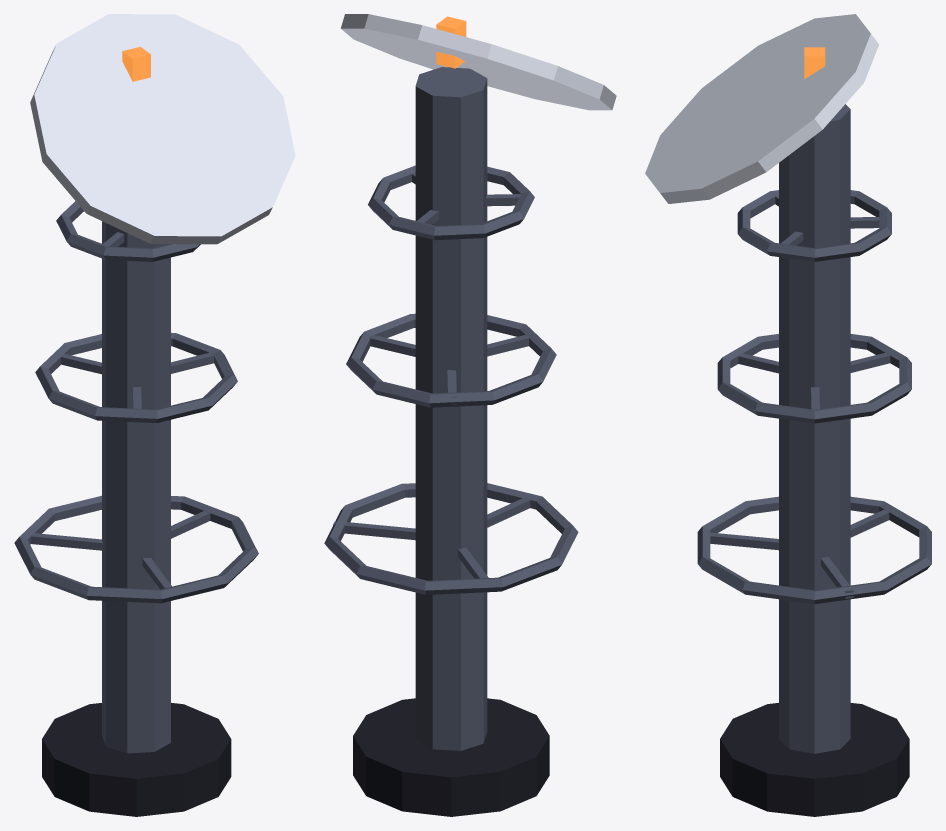
The model's file is jungle_antenna.glb.
3 views of the same model, side by side, from view 1: azimuth 30°, elevation 25°; view 2: azimuth 150°, elevation 25°; view 3: azimuth 270°, elevation 25° (orthographic). The views are drawn at different scales.
Visible parts, largest first — view 1: jungle_antenna; view 2: jungle_antenna; view 3: jungle_antenna.
Part boxes in pixels (x1,y1,x2,y2): jungle_antenna: (14,14,295,816); jungle_antenna: (324,14,616,816); jungle_antenna: (645,14,931,816).
Size of the model in its own units: 2.6 by 7.79 by 2.73.
